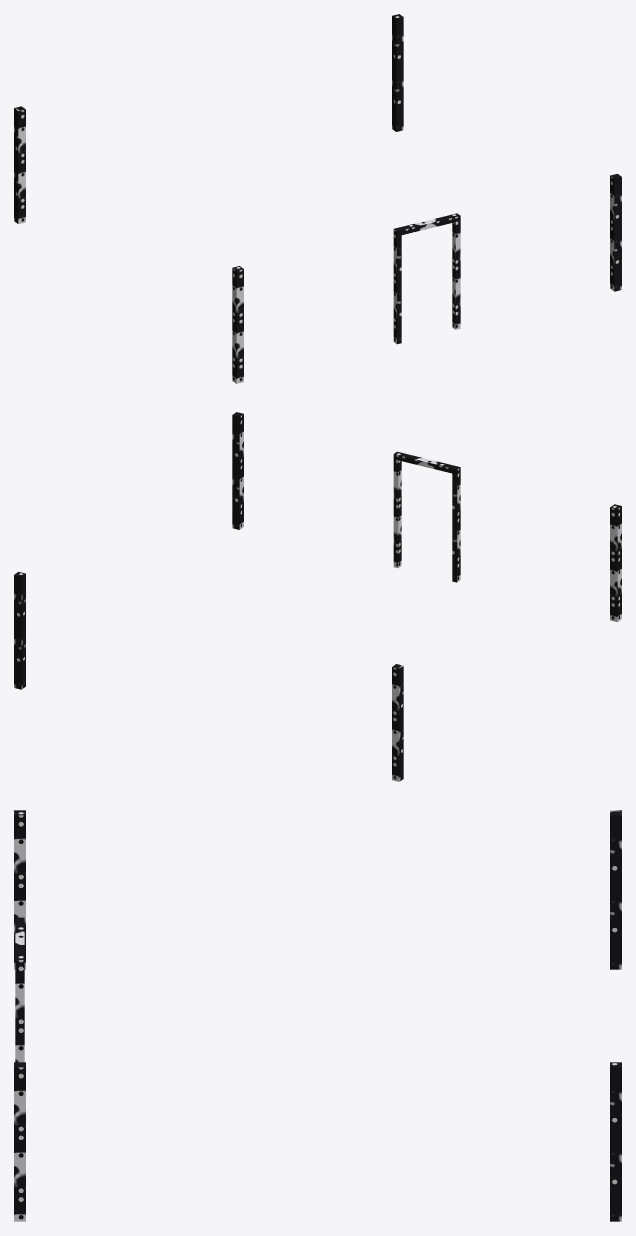
The model's file is accent-skin-7.glb.
3 views of the same model, one above another, from view 1: azimuth 30°, elevation 25°; view 2: azimuth 150°, elevation 25°; view 3: azimuth 270°, elevation 25° (orthographic). The views are drawn at different scales.
Parts seen in each view (by area): view 1: accent-skin-7; view 2: accent-skin-7; view 3: accent-skin-7.
Part boxes in pixels (<box>): accent-skin-7: <box>14,14,621,383</box>; accent-skin-7: <box>14,412,621,781</box>; accent-skin-7: <box>14,810,621,1221</box>.
Size of the model in its own units: 14.28 by 4 by 14.28.
1 material, 1 textured.
